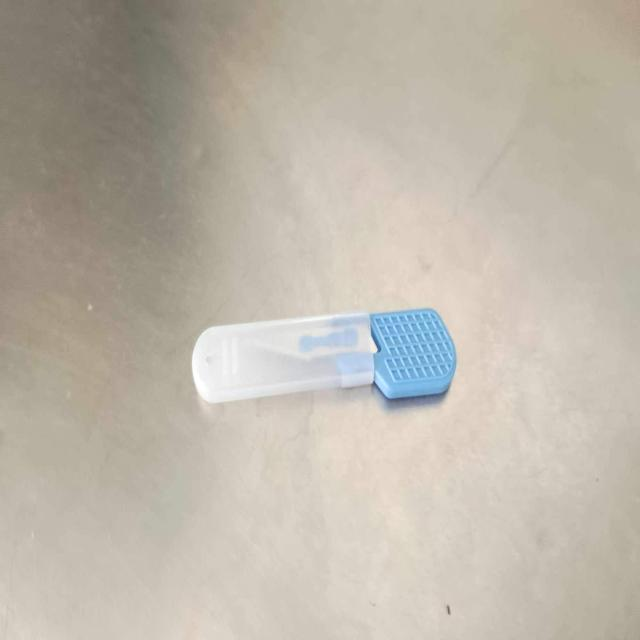General: (2, 4, 636, 635), (370, 305, 458, 402)
Sharps: (191, 305, 457, 405)
